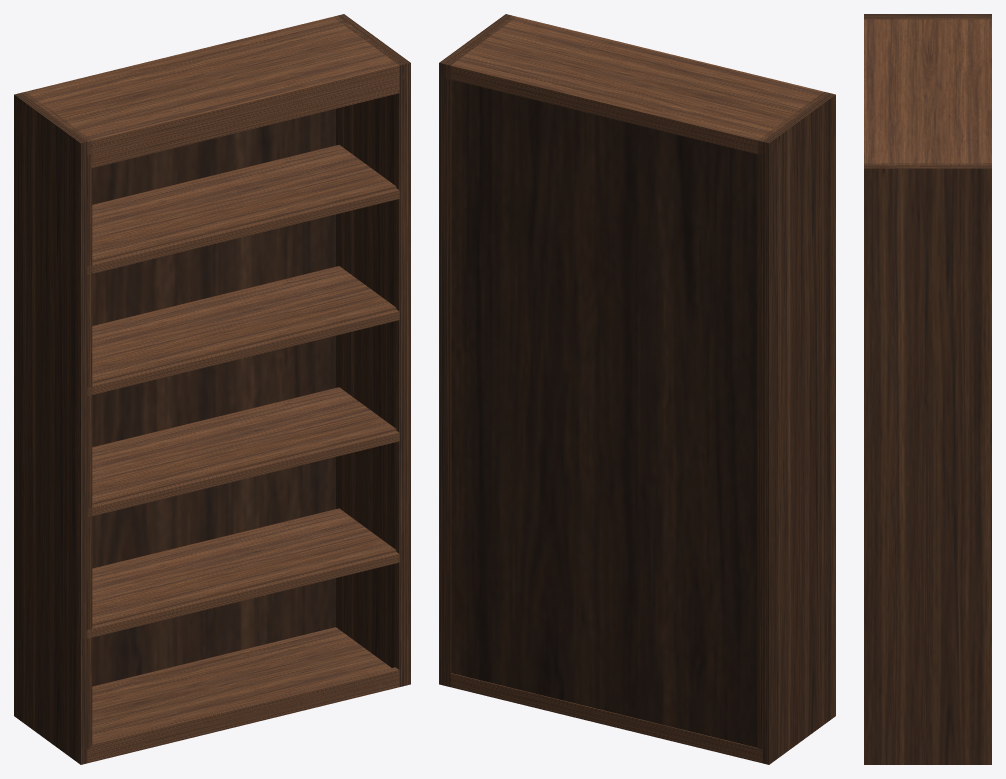
The model's file is bookshelf.glb.
3 renders of one model, left to right at view 1: azimuth 30°, elevation 25°; view 2: azimuth 150°, elevation 25°; view 3: azimuth 270°, elevation 25°, orthographic. The views are drawn at different scales.
Parts seen in each view (by area): view 1: core_bookshelf; view 2: core_bookshelf; view 3: core_bookshelf.
Boxes of the visible parts, x1,y1,x2,y2 form: core_bookshelf: (14, 14, 410, 764); core_bookshelf: (439, 14, 835, 764); core_bookshelf: (864, 14, 991, 764).
Size of the model in its own units: 1 by 1.8 by 0.35.
Materials: 1 (1 with a texture image).
